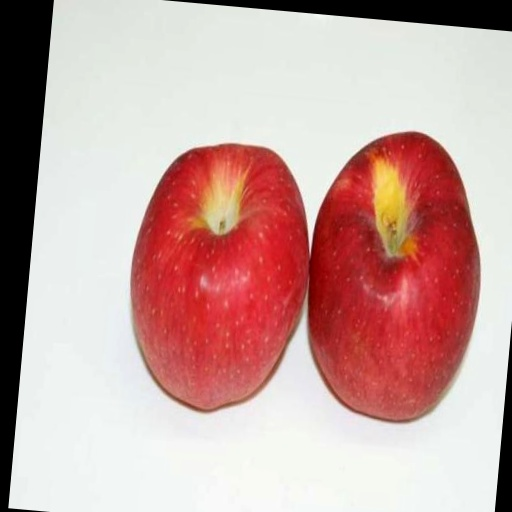fruit: (308, 132, 479, 420), (130, 144, 308, 409)
